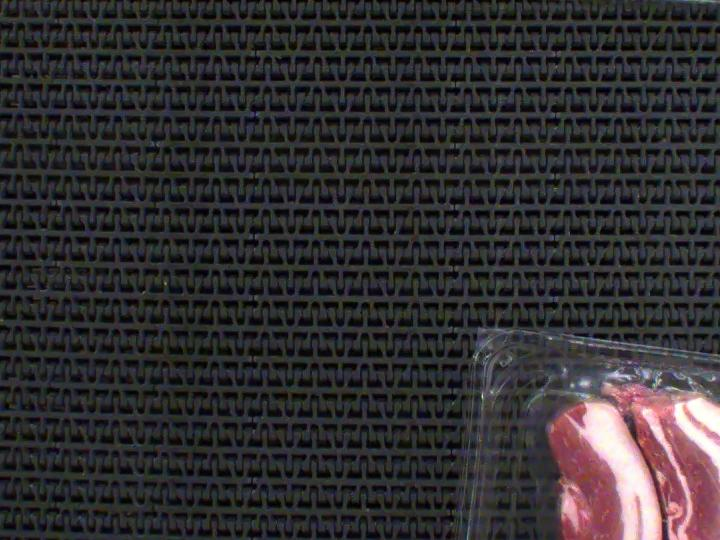unsealed: (523, 350, 720, 540)
